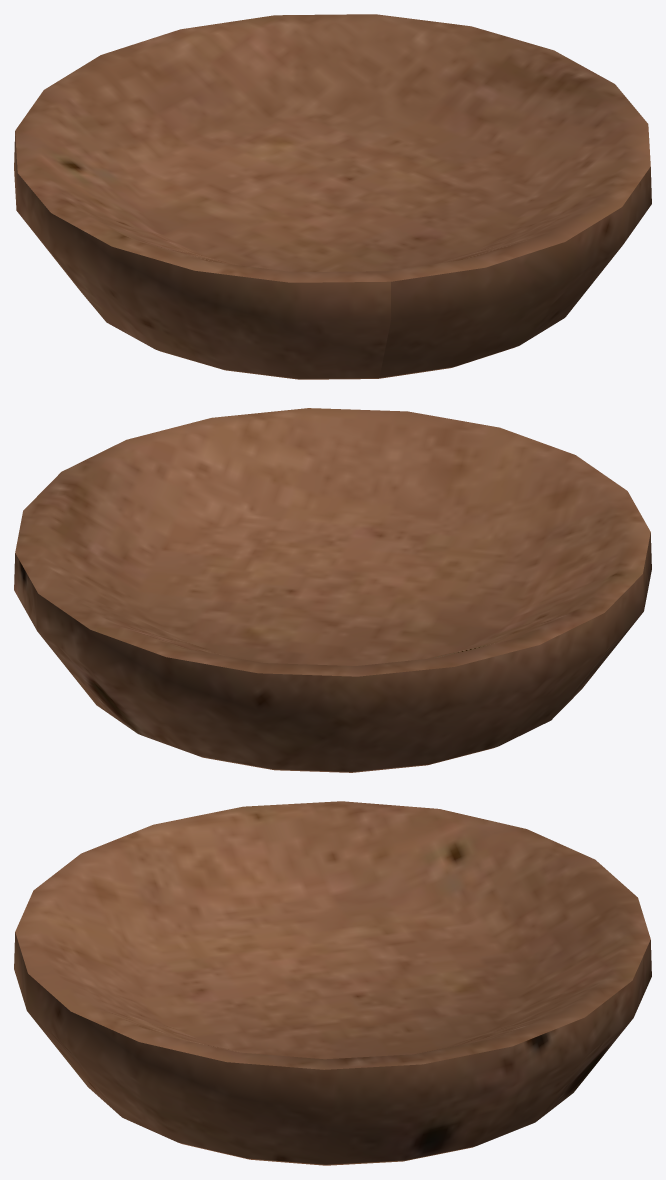
File: Bowl_04.glb
3 renders of one model, top to bottom at view 1: azimuth 30°, elevation 25°; view 2: azimuth 150°, elevation 25°; view 3: azimuth 270°, elevation 25°, orthographic.
Parts seen in each view (by area): view 1: SM_Bowl_04; view 2: SM_Bowl_04; view 3: SM_Bowl_04.
Part boxes in pixels (x1=…): SM_Bowl_04: x1=14, y1=14, x2=651, y2=379; SM_Bowl_04: x1=14, y1=408, x2=651, y2=772; SM_Bowl_04: x1=14, y1=801, x2=651, y2=1165.
Size of the model in its own units: 0.2484 by 0.054 by 0.2484.
Materials: 1 (1 with a texture image).
